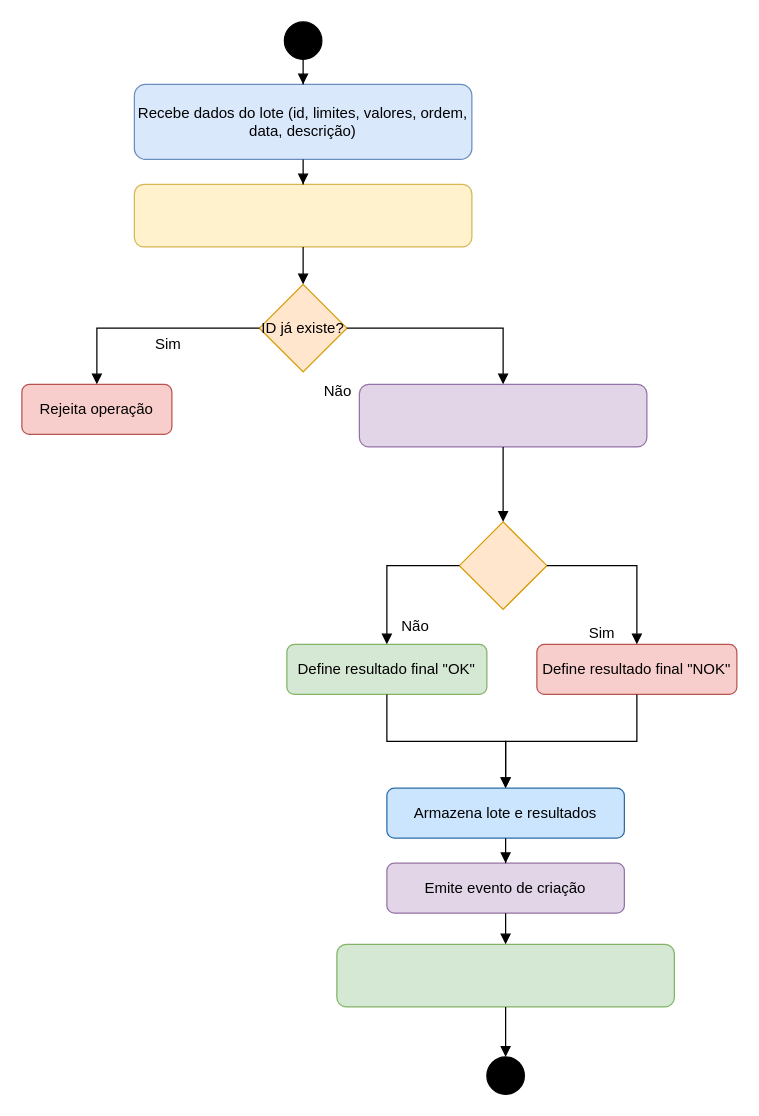
Image size: 759x1116. Some labels were removed from this diagram. The shapes that lost their labels are listed below. From the top down, each one's centre as x and y in pixels, then its label:
At [302,215]: "Verifica se o ID já existe".
At [502,415]: "Para cada valor, verifica se está nos limites".
At [502,565]: "Algum valor fora dos limites?".
At [505,975]: "Permite consulta pública dos dados do lote e amostras".
